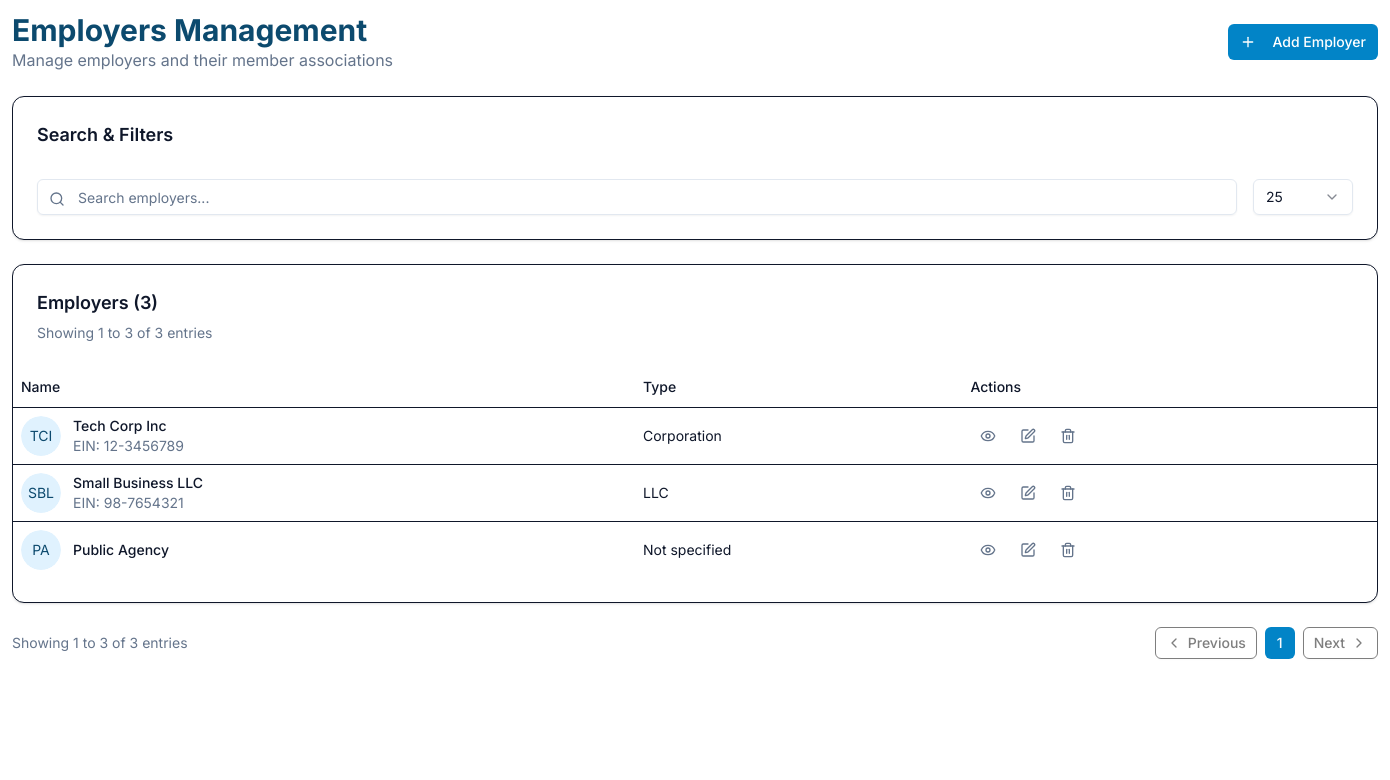
Test: EmployersPage › Action Buttons › should handle delete error gracefully
Expected: the text "Tech Corp Inc" is shown, [73, 416, 166, 434]
Click the button named "Deactivate" in the row of "TCI" at (1068, 436), box [1050, 420, 1086, 452]
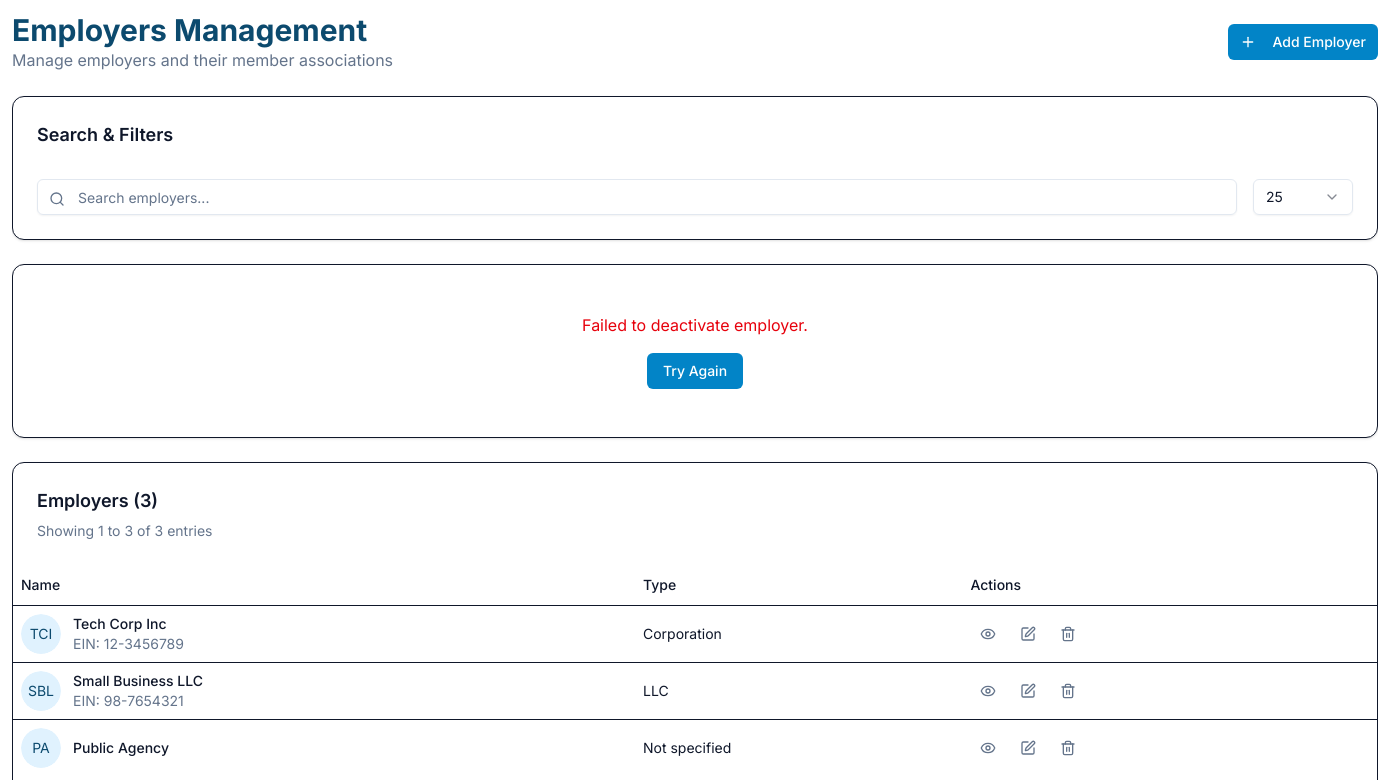
Expected: the text "Failed to deactivate employer." is shown, [582, 315, 808, 335]
